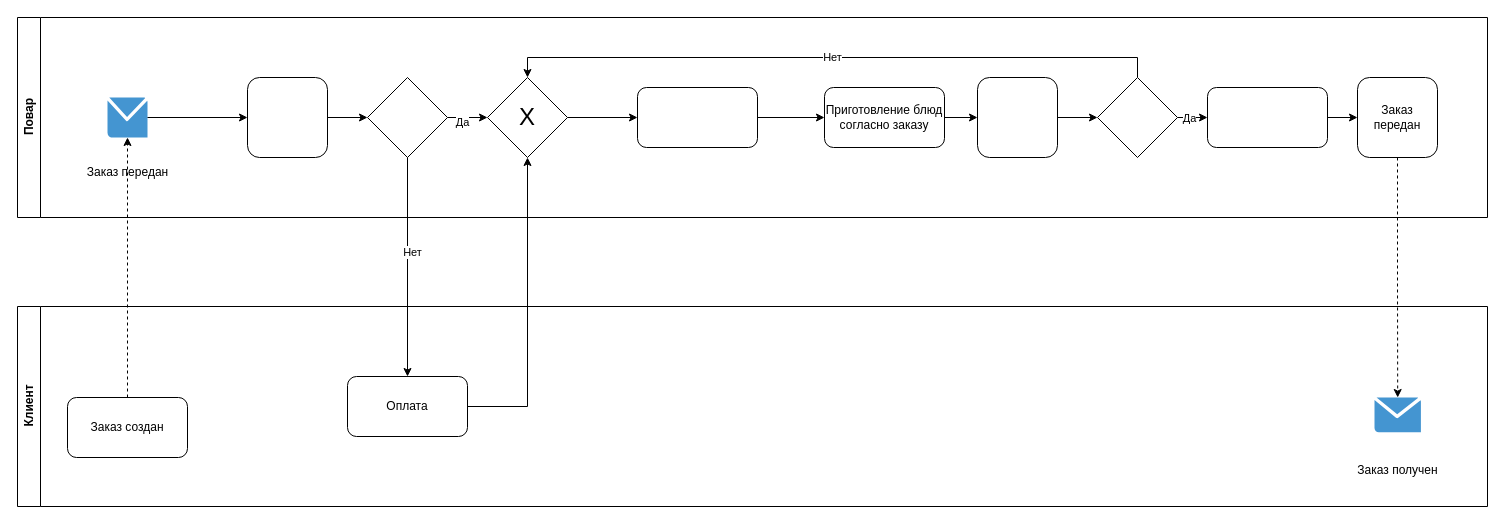
Image size: 1505x524. Some labels were removed from this diagram. Each missing label, with the centre of its shape:
"Подача блюда клиенту" goes at [1267,117].
"Подготовка ингредиентов и оборудования" goes at [697,117].
"Проверка блюд на соответствие заказу" goes at [1017,117].
"Проверка оплаты" goes at [287,117].
